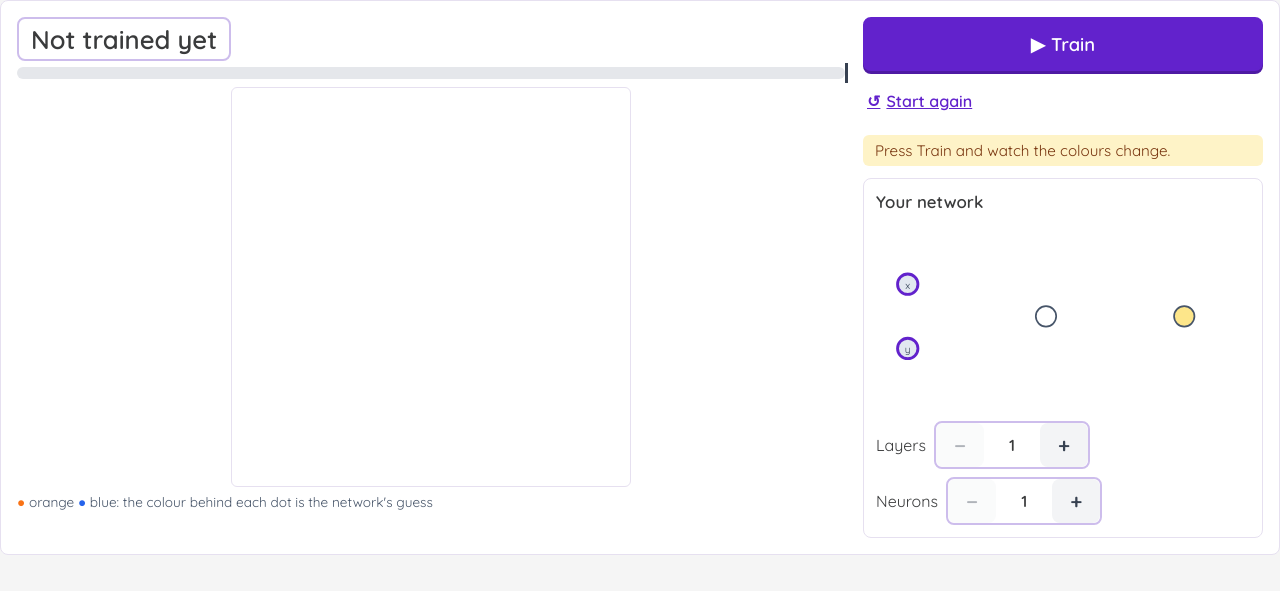
Test case: Network Playground StudentView › stops at the step cap with a kind message
This screenshot has width=1280, height=591.
Step 1. Click the button "▶Train" → (1063, 44), box top-left (863, 17), bottom-right (1263, 71)
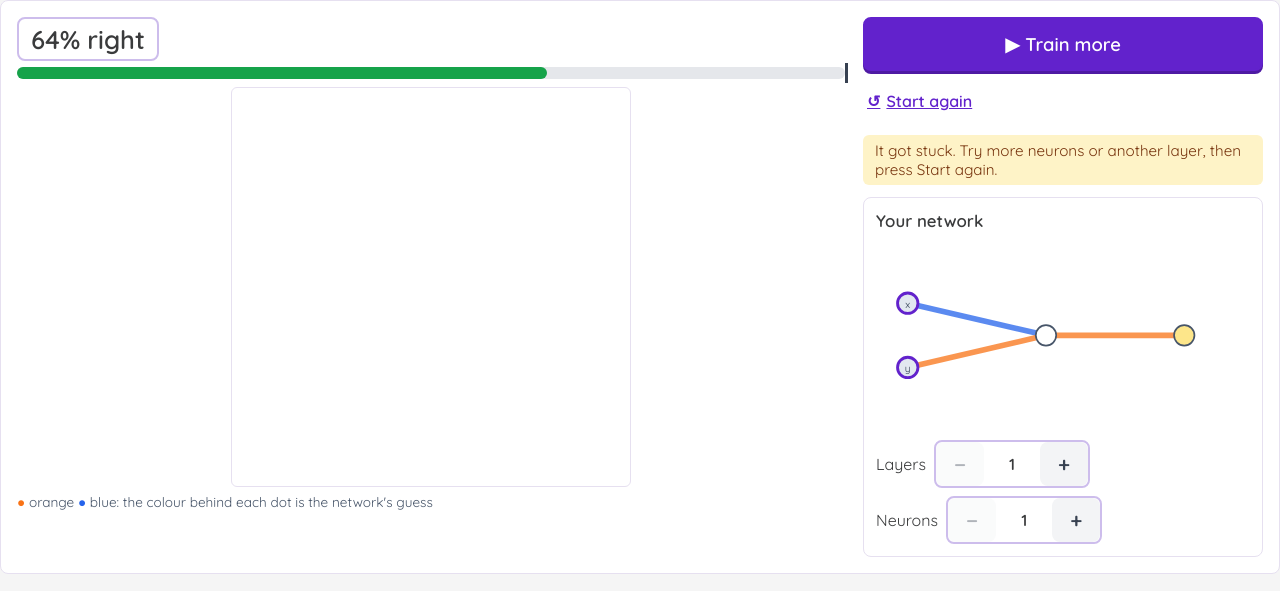
Now the text "It got stuck" is shown, box top-left (875, 141), bottom-right (1241, 179)
